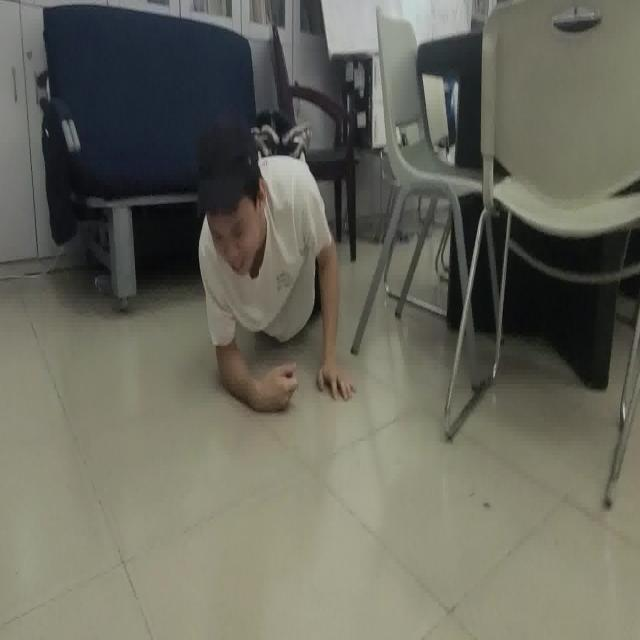Fall-Detected: (196, 126, 358, 416)
